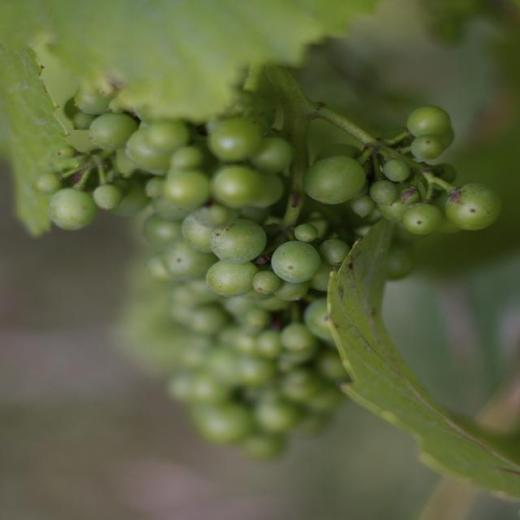Orange: (37, 92, 504, 456)
